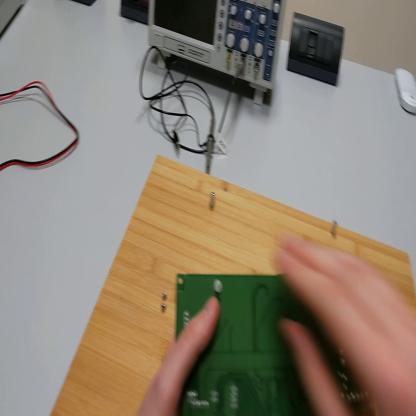hand: (274, 237, 416, 416), (137, 300, 220, 416)
low voltage board: (179, 274, 374, 415)
oscilloscope: (150, 3, 288, 108)
oscilloscope probe tip: (205, 115, 218, 174)
socket: (120, 1, 148, 28), (74, 2, 100, 9)
working area: (51, 156, 415, 416)
